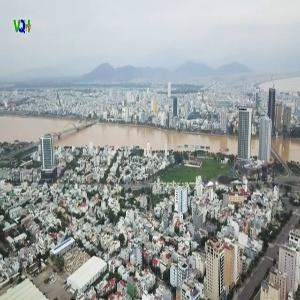drone: (139, 101, 297, 259)
